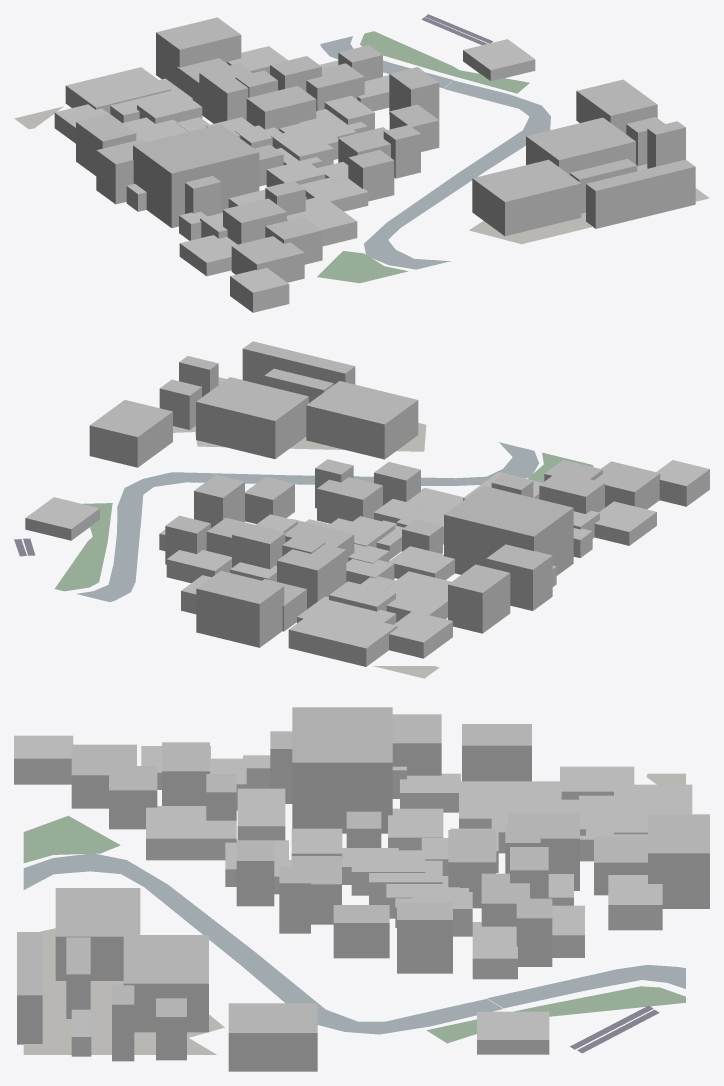
The model's file is 125_106_mid.glb.
The picture shows the model from 3 angles, top to bottom: view 1: azimuth 30°, elevation 25°; view 2: azimuth 150°, elevation 25°; view 3: azimuth 270°, elevation 25°; orthographic projection. The views are drawn at different scales.
Size of the model in its own units: 552 by 60.08 by 525.
